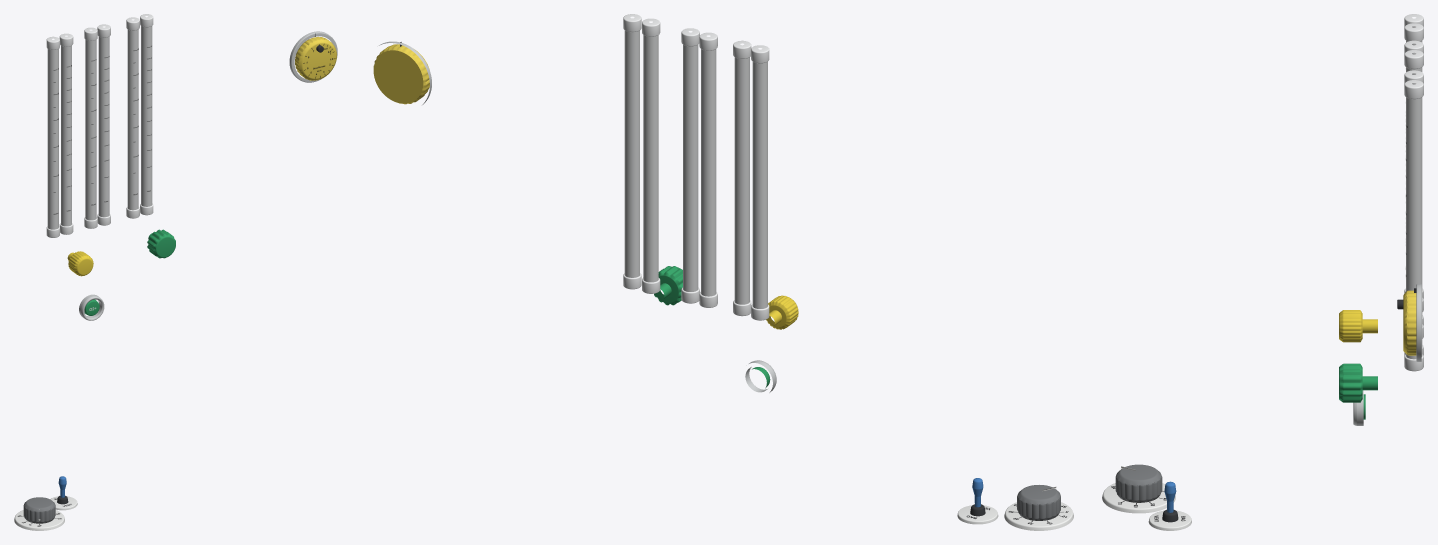
File: controls.glb
3 renders of one model, left to right at view 1: azimuth 30°, elevation 25°; view 2: azimuth 150°, elevation 25°; view 3: azimuth 270°, elevation 25°, orthographic. The views are drawn at different scales.
Parts seen in each view (by area): view 1: tube_o2_fine, tube_n2o_fine, tube_n2o_coarse, tube_air_fine, tube_o2_coarse, tube_air_coarse, sevo_dial, apl_knob, knob_o2, apl_scale, sevo_bezel, knob_air; view 2: tube_air_fine, tube_n2o_coarse, tube_n2o_fine, tube_o2_coarse, tube_o2_fine, tube_air_coarse, sevo_dial, apl_knob, apl_scale, knob_o2, knob_air; view 3: tube_o2_coarse, apl_knob, knob_o2, knob_air, apl_scale, sevo_dial, bag_vent_base, sevo_bezel, tube_n2o_coarse, tube_air_coarse.
Part boxes in pixels (<box>): tube_o2_fine: <box>126,17,139,218</box>; tube_n2o_fine: <box>84,27,97,228</box>; tube_n2o_coarse: <box>97,24,110,225</box>; tube_air_fine: <box>46,36,59,237</box>; tube_o2_coarse: <box>140,14,153,215</box>; tube_air_coarse: <box>59,33,73,234</box>; sevo_dial: <box>295,36,336,80</box>; apl_knob: <box>23,497,55,523</box>; knob_o2: <box>147,229,175,258</box>; apl_scale: <box>14,510,64,530</box>; sevo_bezel: <box>289,31,337,82</box>; knob_air: <box>67,251,93,276</box>; tube_air_fine: <box>751,45,769,320</box>; tube_n2o_coarse: <box>681,28,699,303</box>; tube_n2o_fine: <box>699,32,717,307</box>; tube_o2_coarse: <box>623,14,641,289</box>; tube_o2_fine: <box>642,18,660,293</box>; tube_air_coarse: <box>733,40,751,316</box>; sevo_dial: <box>373,44,429,104</box>; apl_knob: <box>1017,485,1060,520</box>; apl_scale: <box>1004,502,1073,530</box>; knob_o2: <box>654,266,682,305</box>; knob_air: <box>766,295,798,329</box>; tube_o2_coarse: <box>1404,80,1423,371</box>; apl_knob: <box>1115,464,1162,502</box>; knob_o2: <box>1339,363,1377,402</box>; knob_air: <box>1339,310,1377,342</box>; apl_scale: <box>1102,483,1175,513</box>; sevo_dial: <box>1403,290,1416,355</box>; bag_vent_base: <box>1148,509,1191,530</box>; sevo_bezel: <box>1414,284,1421,361</box>; tube_n2o_coarse: <box>1404,50,1423,338</box>; tube_air_coarse: <box>1404,23,1423,311</box>.
Bounding box in the file's own units: 0.6421 × 0.5671 × 0.297.
18 materials, 6 textured.
